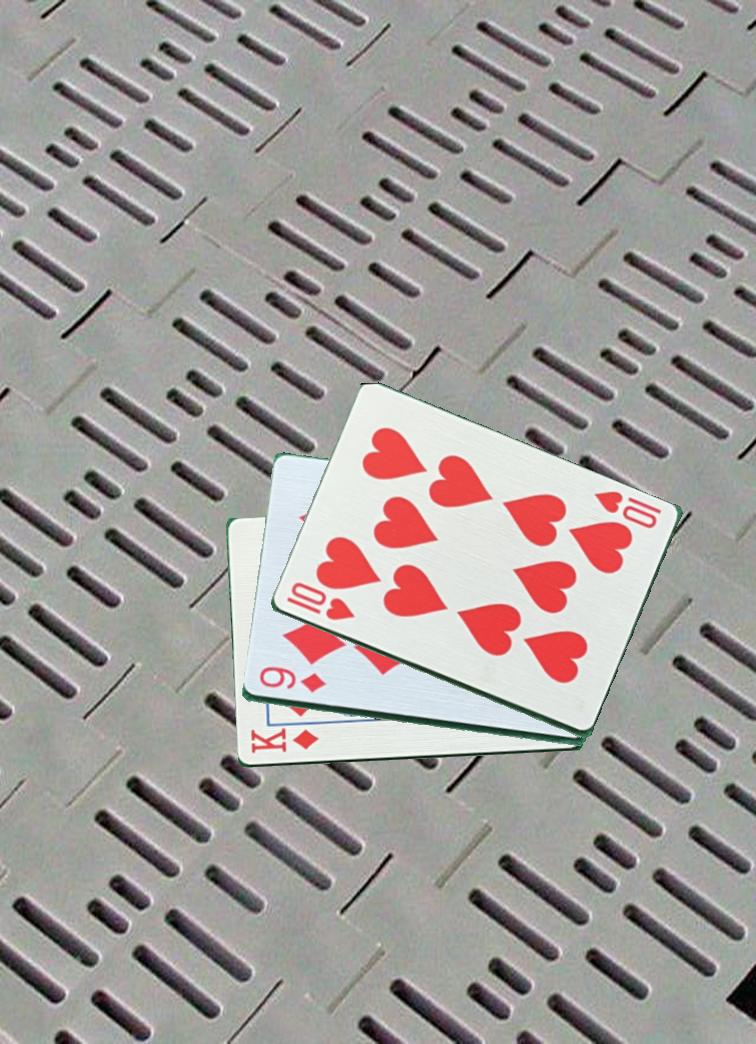9d: (255, 665, 328, 696)
kd: (247, 727, 321, 757)
th: (282, 579, 358, 624), (589, 487, 664, 532)
